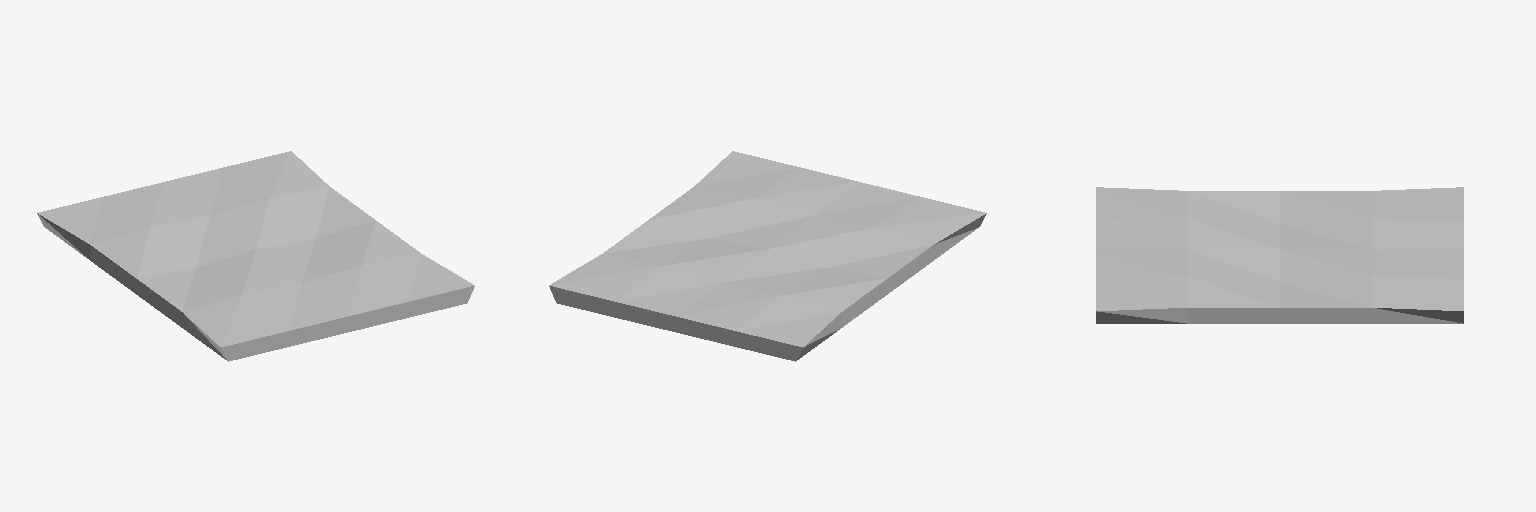
File: letter.obj
3 views of the same model, side by side, from view 1: azimuth 30°, elevation 25°; view 2: azimuth 150°, elevation 25°; view 3: azimuth 270°, elevation 25° (orthographic).
Parts seen in each view (by area): view 1: Cube; view 2: Cube; view 3: Cube.
Part boxes in pixels (left/top/right/bottom): Cube: left=37, top=151, right=474, bottom=361; Cube: left=549, top=151, right=986, bottom=361; Cube: left=1096, top=187, right=1463, bottom=323.
Size of the model in its own units: 1.6 by 0.1109 by 2.